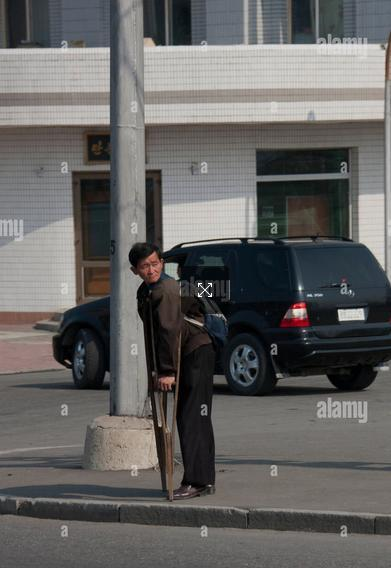crutches: (119, 238, 237, 503)
